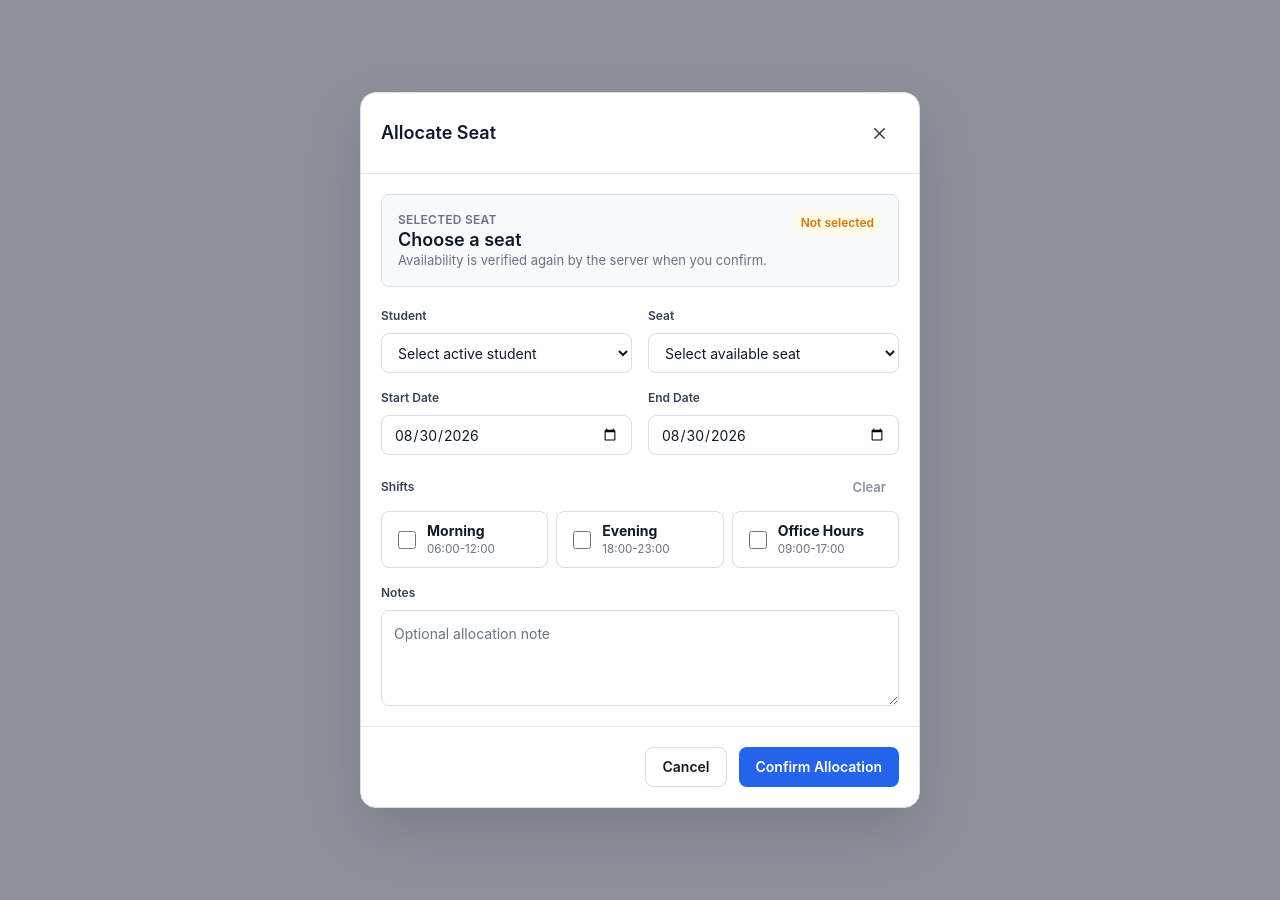
Scenario: SeatAllocationDialog › validates required fields and rejects reversed dates
The width and height of the screenshot is (1280, 900).
Click the button with class "btn--primary" at coordinates (819, 767), box [738,747,899,787]
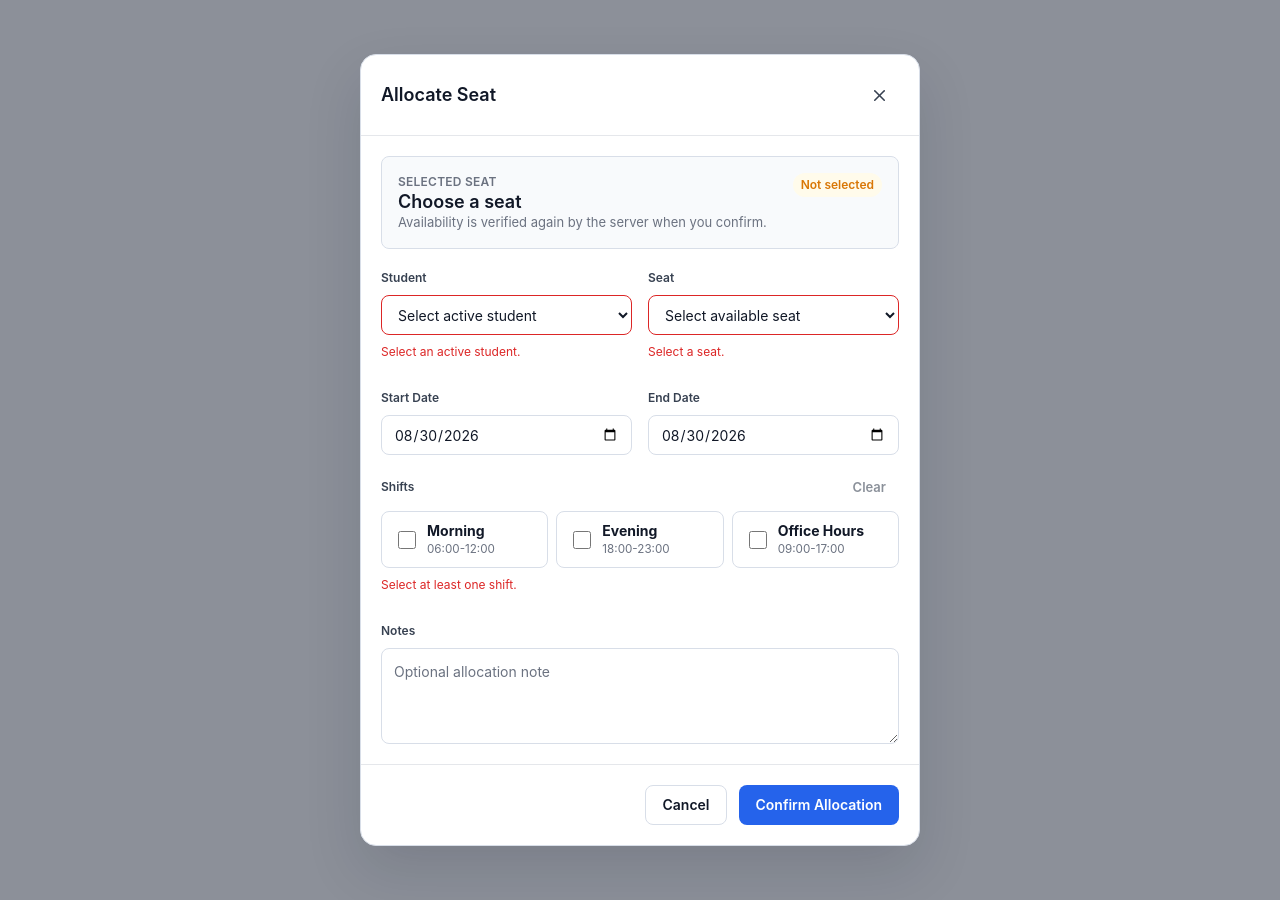
Expected: the text "Select an active student." is shown, [381,344,520,359]
Expected: the text "Select a seat." is shown, [648,344,724,359]
Expected: the text "Select at least one shift." is shown, [381,577,517,592]
Select "Aarav Sharma (STU-001)" in the dropdown with id "allocation-student" at coordinates (506, 315), box [381,295,632,335]
Select "A-01 · Ground Floor" in the dropdown with id "allocation-seat" at coordinates (774, 315), box [648,295,899,335]
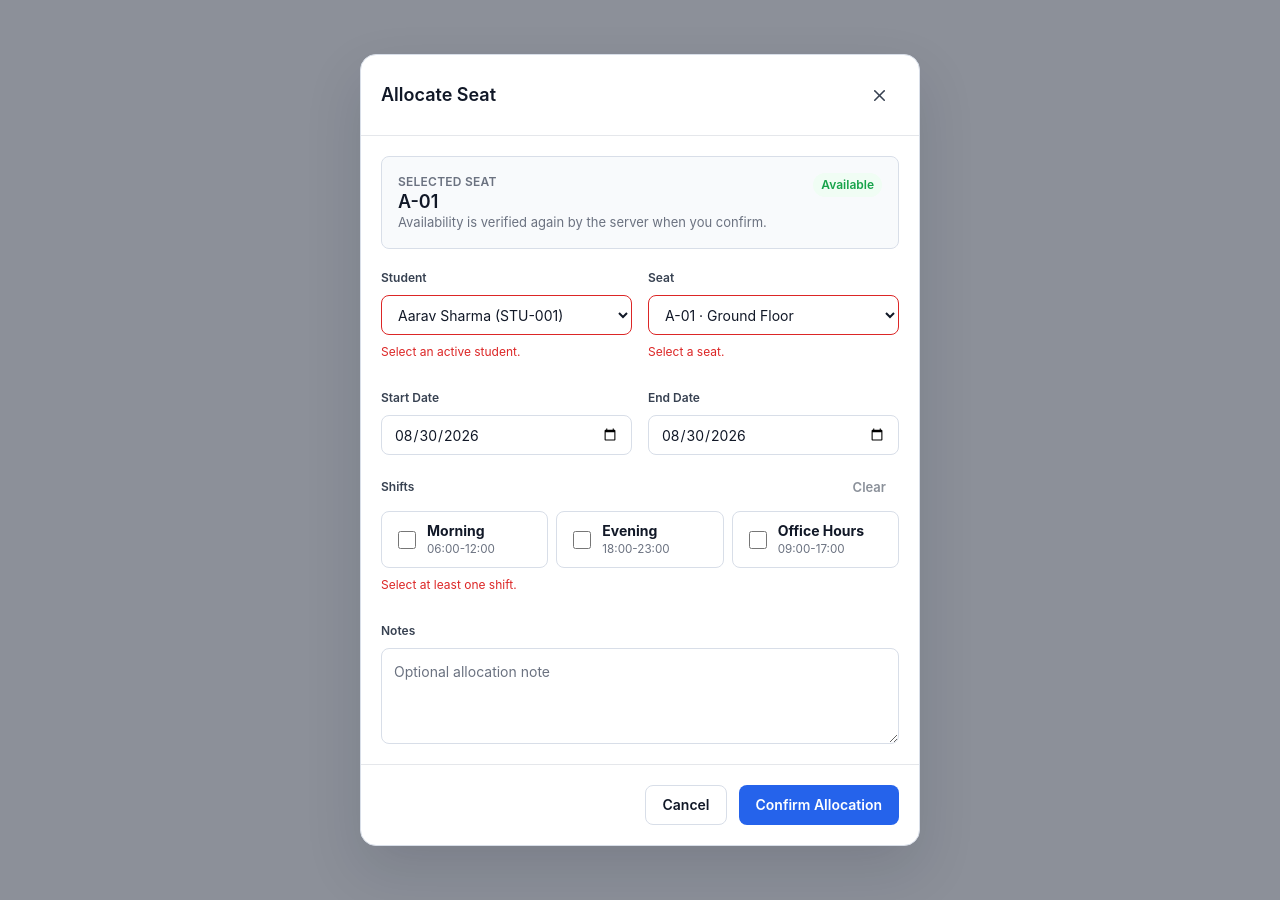
Type "2026-08-10" into the date field with id "allocation-start-date" at coordinates (506, 435), box [381,415,632,455]
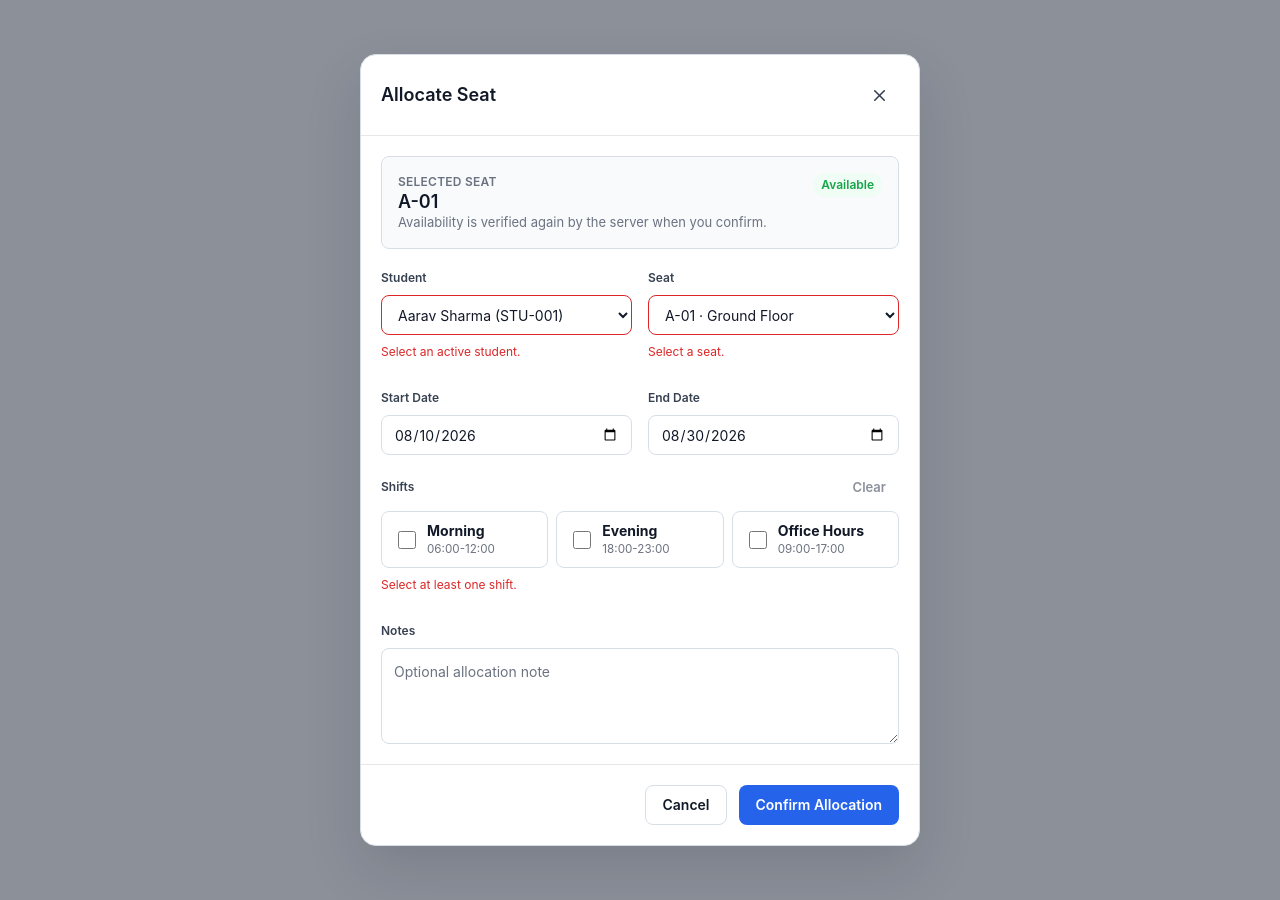
Type "2026-08-01" into the date field with id "allocation-end-date" at coordinates (774, 435), box [648,415,899,455]
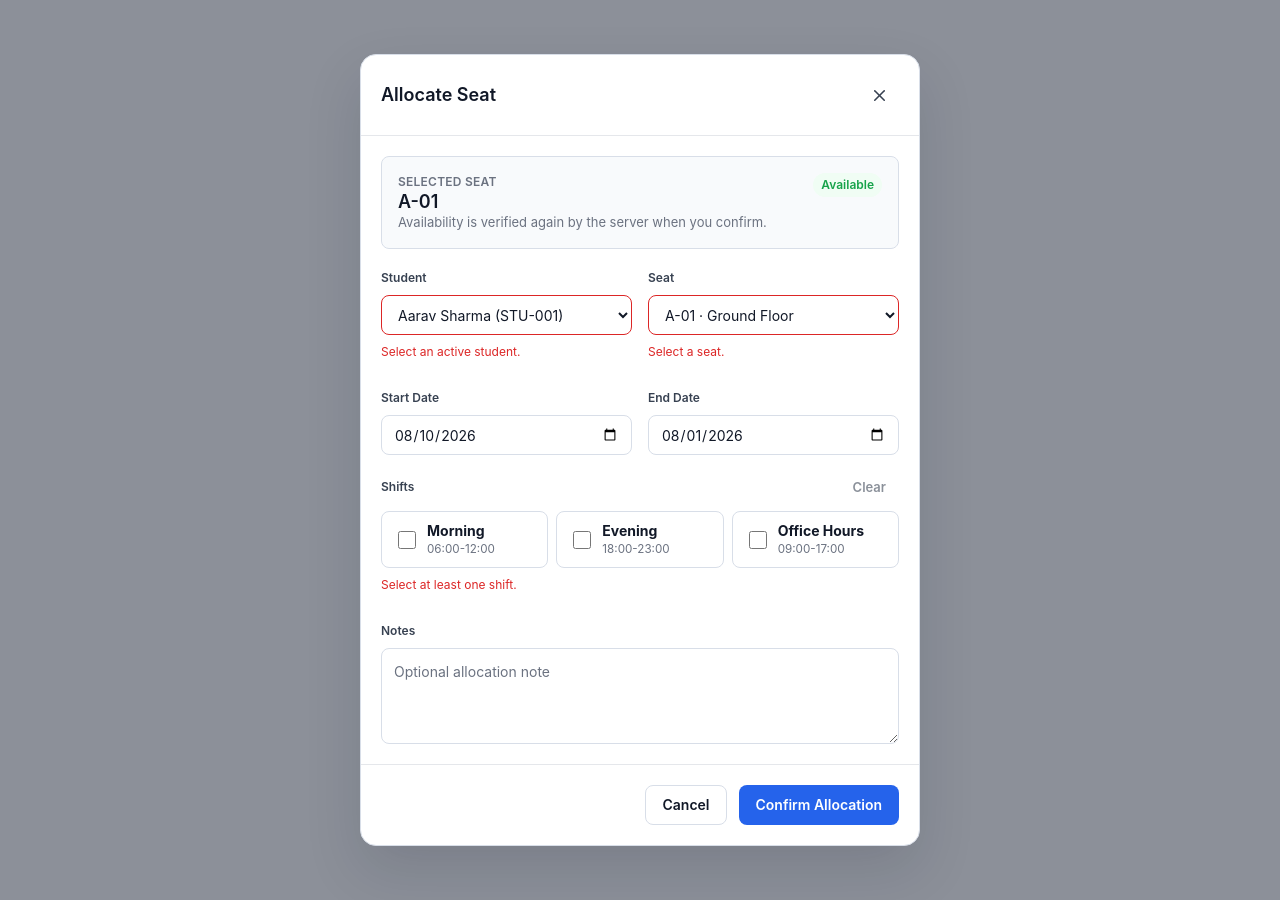
Click the checkbox labelled "Morning 06:00-12:00" at coordinates (407, 540), box [398,530,416,548]
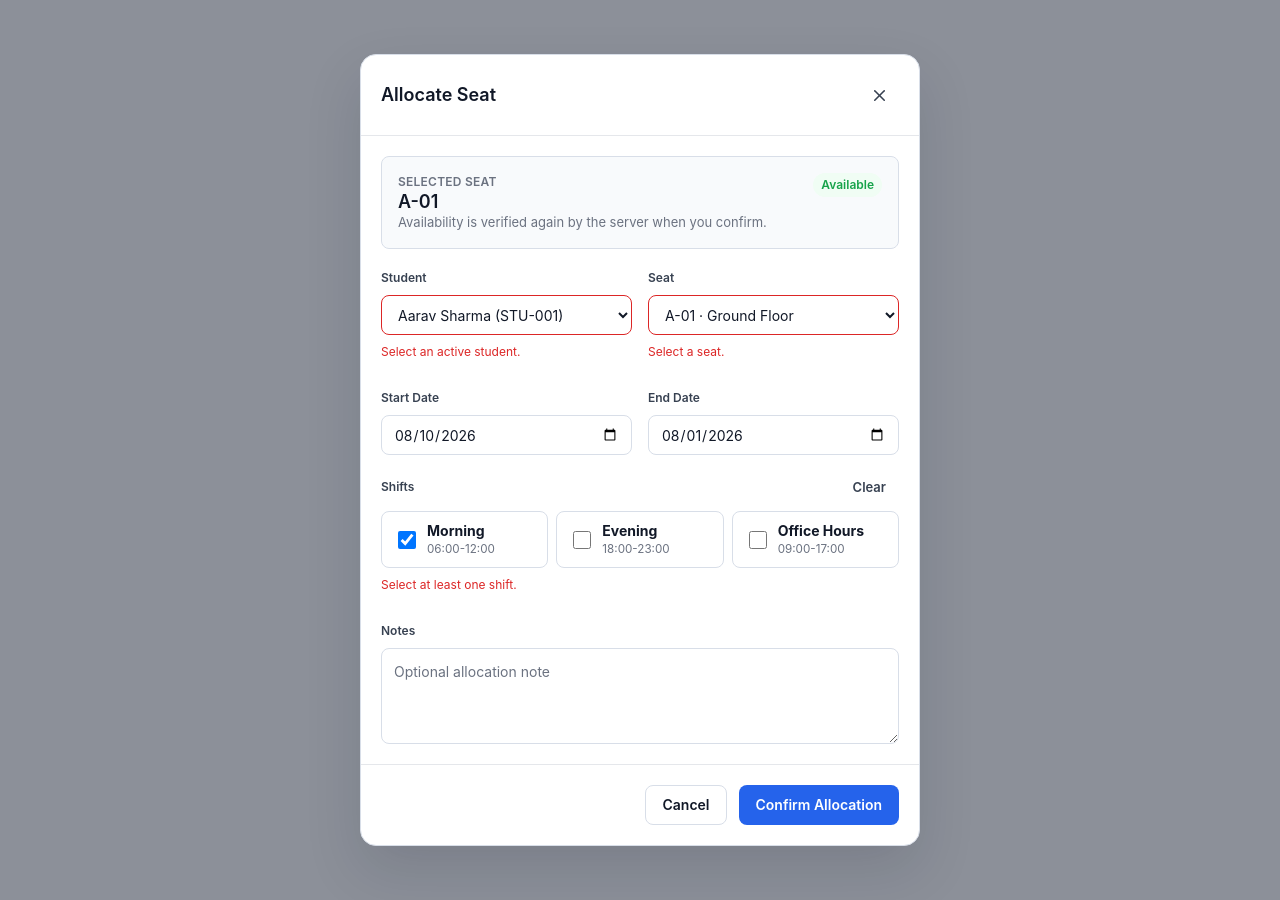
Click the button with class "btn--primary" at coordinates (819, 805), box [738,785,899,825]
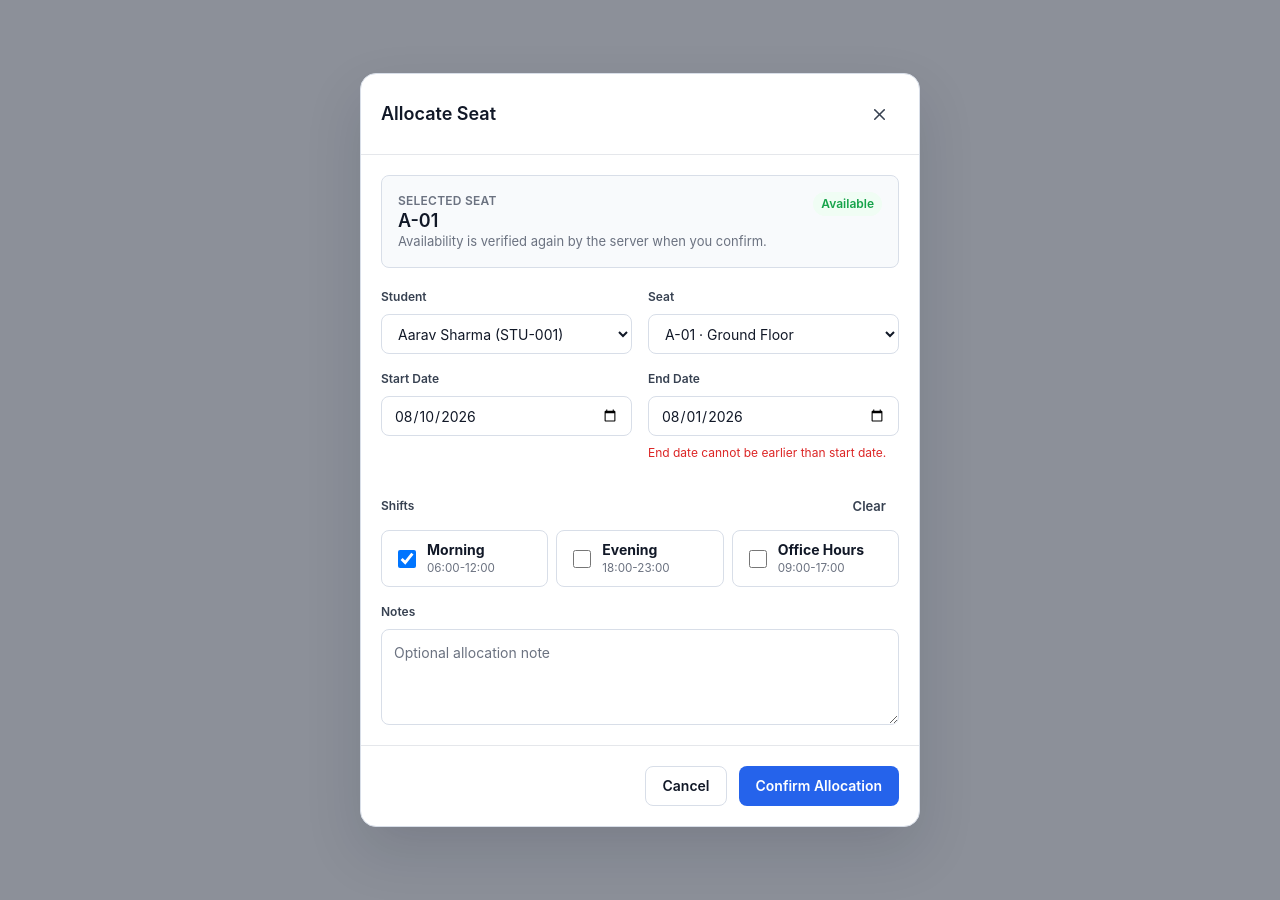
Expected: the text "End date cannot be earlier than start date." is shown, [648,444,899,462]
